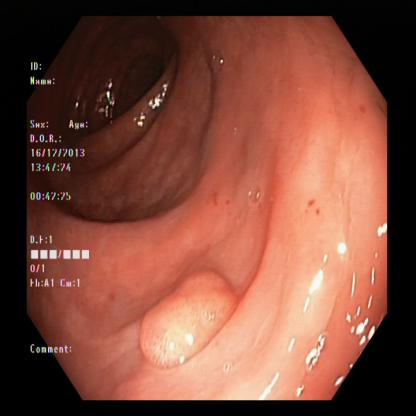Labels: (27, 56, 92, 358)
Polyps: (138, 276, 238, 365)
